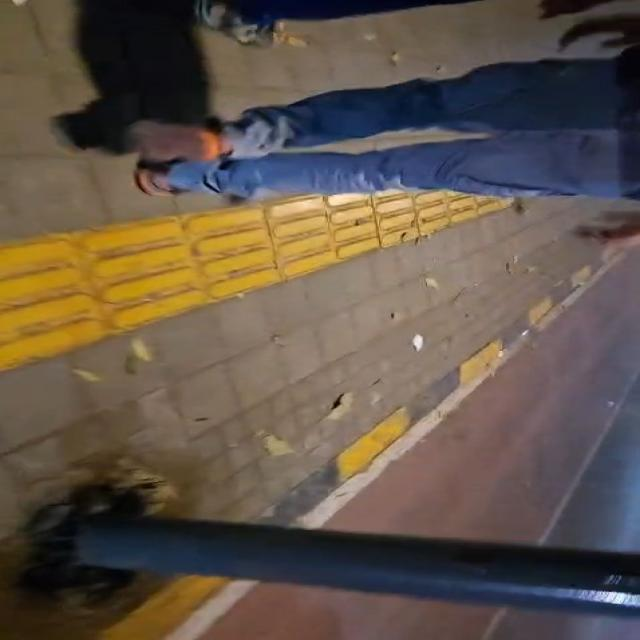obstacle: (77, 517, 639, 615)
person: (134, 50, 639, 198), (193, 0, 479, 45)
